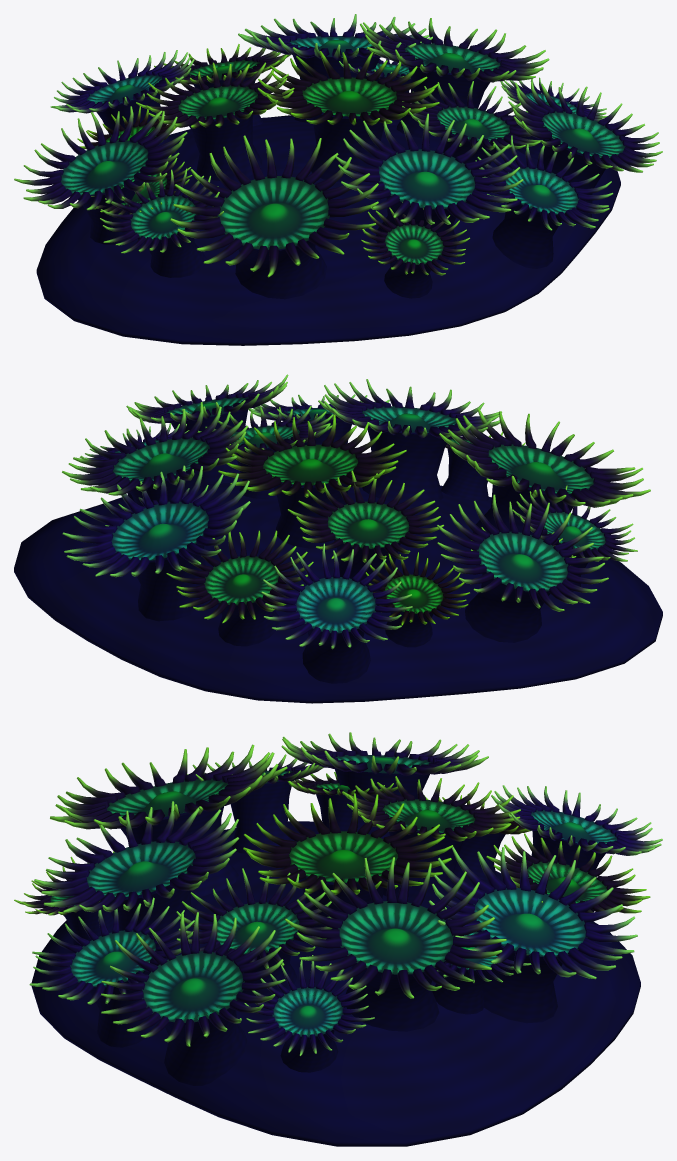
The model's file is reef-zoanthid-palythoa-cluster.glb.
3 renders of one model, top to bottom at view 1: azimuth 30°, elevation 25°; view 2: azimuth 150°, elevation 25°; view 3: azimuth 270°, elevation 25°, orthographic. The views are drawn at different scales.
Visible parts, largest first — view 1: Reef_Zoanthid_Palythoa_Cluster; view 2: Reef_Zoanthid_Palythoa_Cluster; view 3: Reef_Zoanthid_Palythoa_Cluster.
Boxes of the visible parts, x1=… form: Reef_Zoanthid_Palythoa_Cluster: x1=14, y1=14, x2=662, y2=345; Reef_Zoanthid_Palythoa_Cluster: x1=14, y1=374, x2=662, y2=703; Reef_Zoanthid_Palythoa_Cluster: x1=14, y1=732, x2=662, y2=1146.
Size of the model in its own units: 0.1853 by 0.047 by 0.1589.
2 materials, 2 textured.
